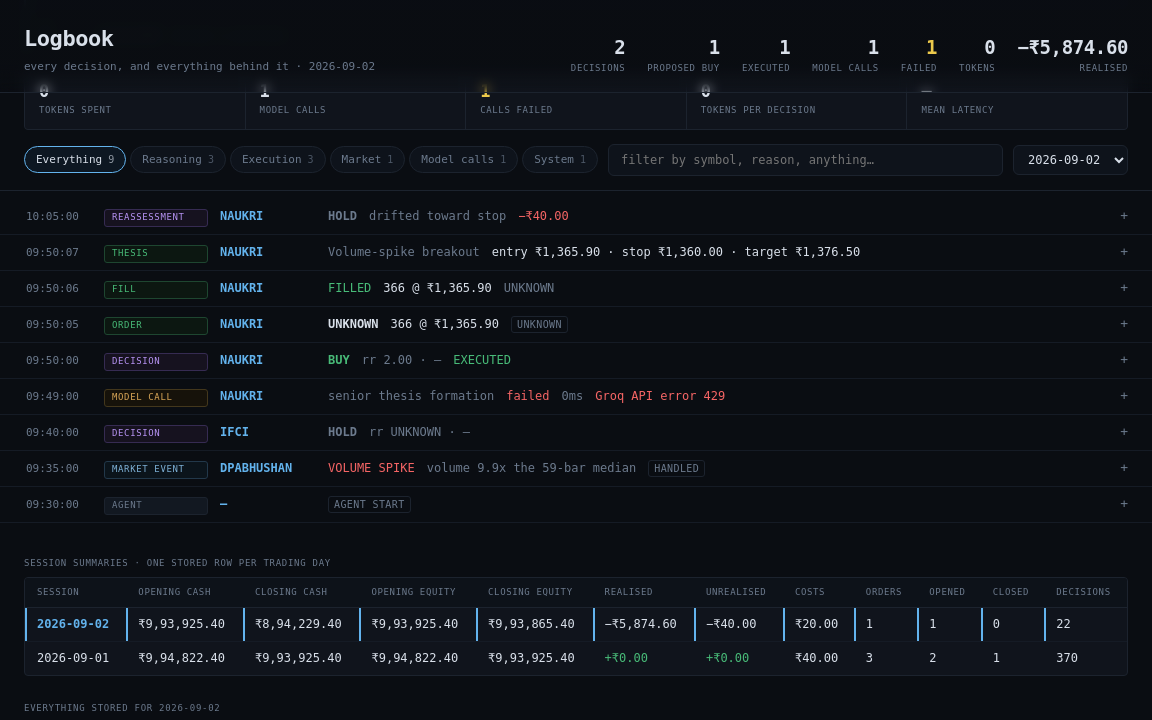
Test: logbook page › opens a decision and shows the full chain that produced it
(page scrolled)
Click the 5th button with class "lb-head": (52, 360) [0,343,1151,378]
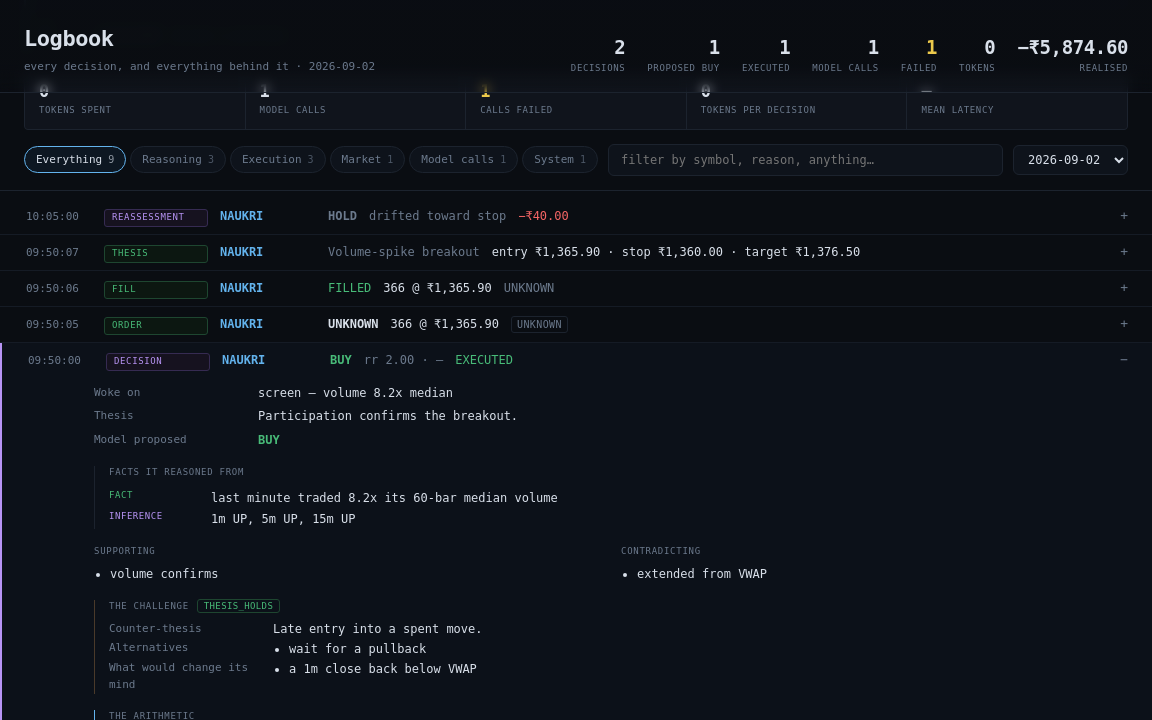
Now the text "Participation confirms the breakout." is shown, box [258,409,518,423]
Now the text "last minute traded 8.2x its 60-bar median volume" is shown, box [211,491,558,505]
Now the text "Late entry into a spent move." is shown, box [273,622,482,636]
